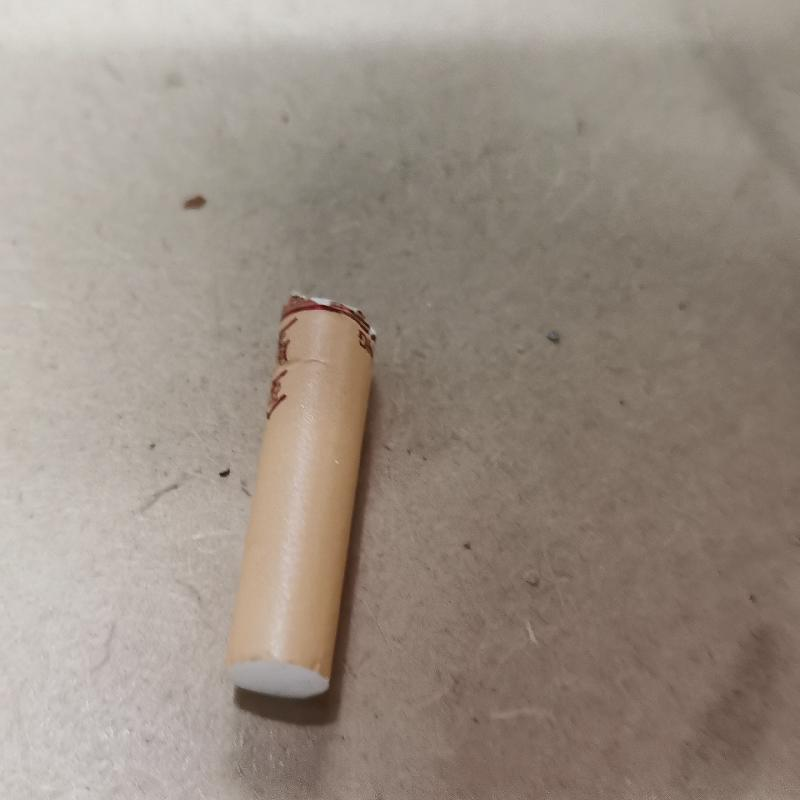cigarette: (225, 290, 378, 722)
